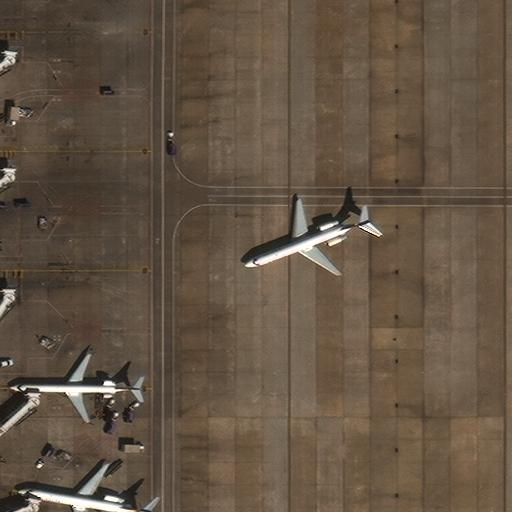Medium Civil Transport: (245, 200, 372, 275), (10, 351, 142, 423), (17, 462, 150, 512)
